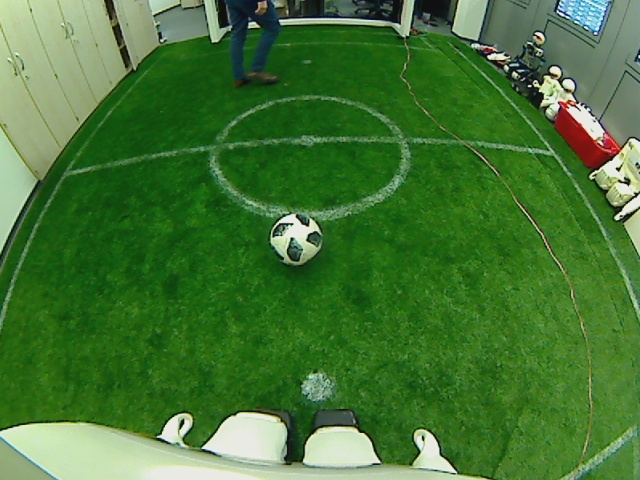ball: (267, 210, 324, 265)
